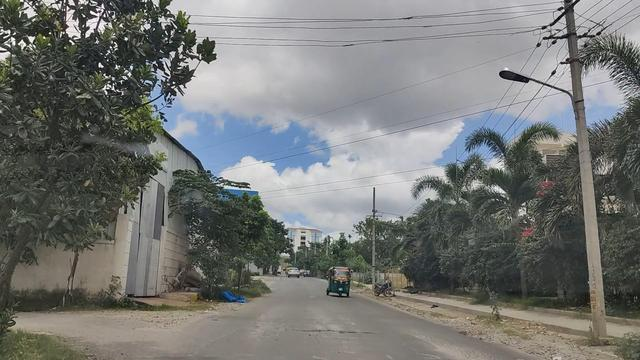RoadDamages: (286, 315, 380, 347)
